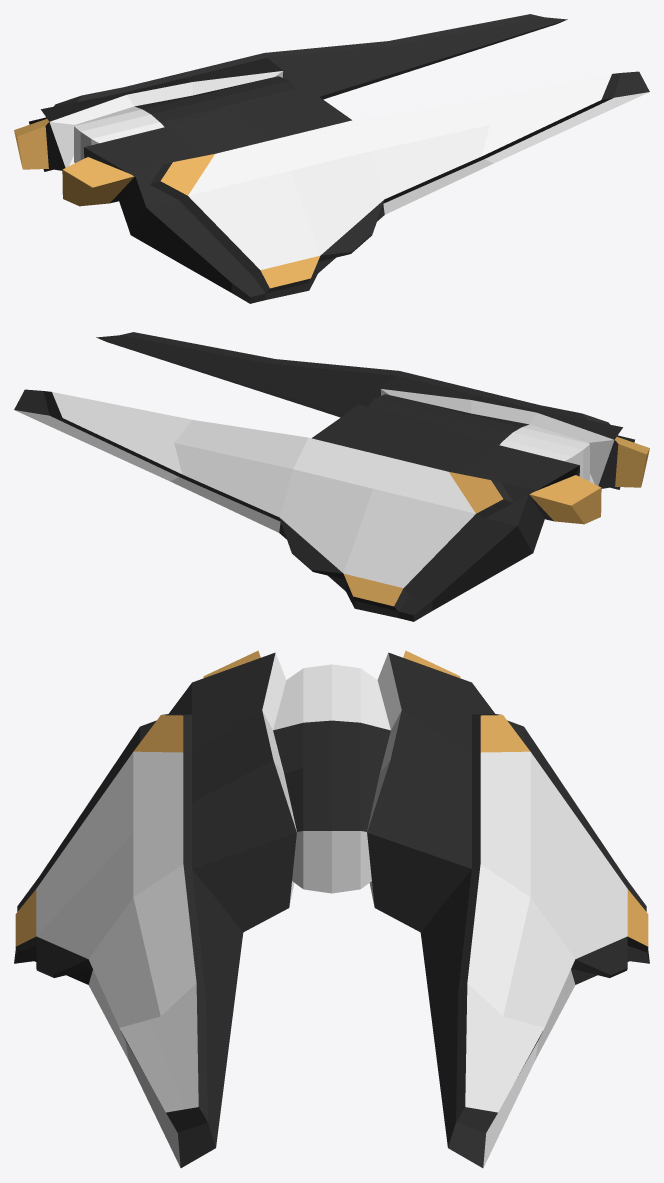
File: ship_2.fbx
The picture shows the model from 3 angles, top to bottom: view 1: azimuth 30°, elevation 25°; view 2: azimuth 150°, elevation 25°; view 3: azimuth 270°, elevation 25°; orthographic projection. The views are drawn at different scales.
Visible parts, largest first — view 1: Cube; view 2: Cube; view 3: Cube.
Part boxes in pixels (x1,y1,x2,y2): Cube: (14, 14, 649, 303); Cube: (14, 332, 649, 621); Cube: (14, 650, 649, 1167).
Size of the model in its own units: 844 by 178 by 505.
